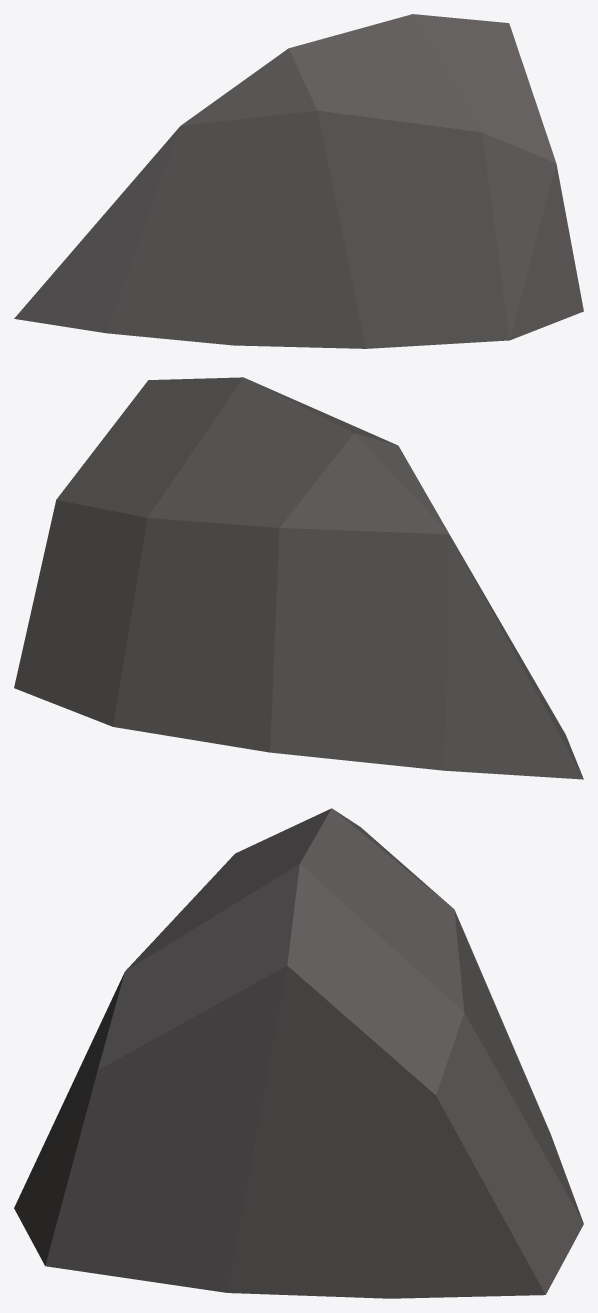
File: Rock_08.glb
The picture shows the model from 3 angles, top to bottom: view 1: azimuth 30°, elevation 25°; view 2: azimuth 150°, elevation 25°; view 3: azimuth 270°, elevation 25°; orthographic projection. The views are drawn at different scales.
Parts seen in each view (by area): view 1: Rock_08; view 2: Rock_08; view 3: Rock_08.
Part boxes in pixels (x1,y1,x2,y2): Rock_08: [14, 14, 583, 348]; Rock_08: [14, 377, 583, 779]; Rock_08: [14, 808, 583, 1298].
Size of what is drawn, in the model's own units: 1.45 by 0.7148 by 1.06.
1 material, 1 textured.
